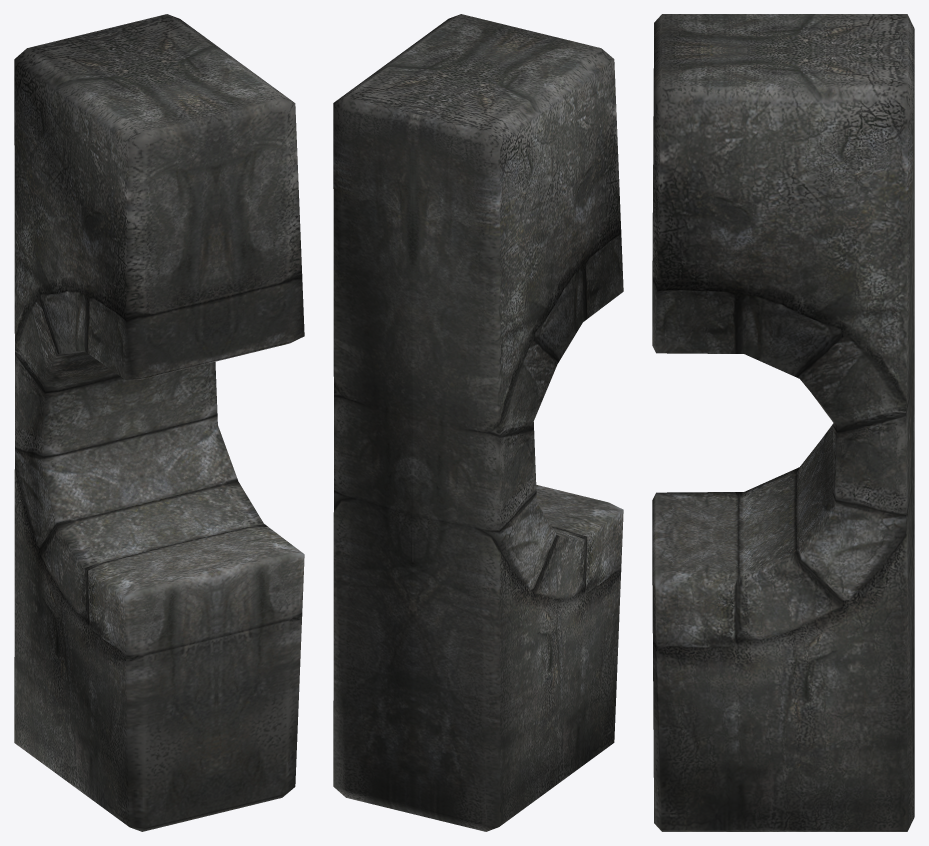
3 views of the same model, side by side, from view 1: azimuth 30°, elevation 25°; view 2: azimuth 150°, elevation 25°; view 3: azimuth 270°, elevation 25° (orthographic). The views are drawn at different scales.
Visible parts, largest first — view 1: tr_06; view 2: tr_06; view 3: tr_06.
Boxes of the visible parts, x1,y1,x2,y2 form: tr_06: (14, 14, 304, 831); tr_06: (333, 14, 623, 831); tr_06: (652, 14, 914, 831).
Size of the model in its own units: 2.05 by 2.41 by 7.55.
1 material, 1 textured.
